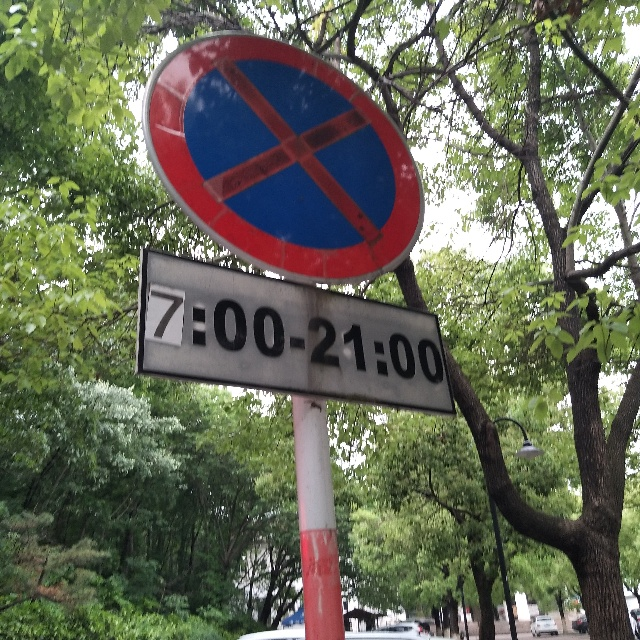stop: (185, 39, 404, 254)
